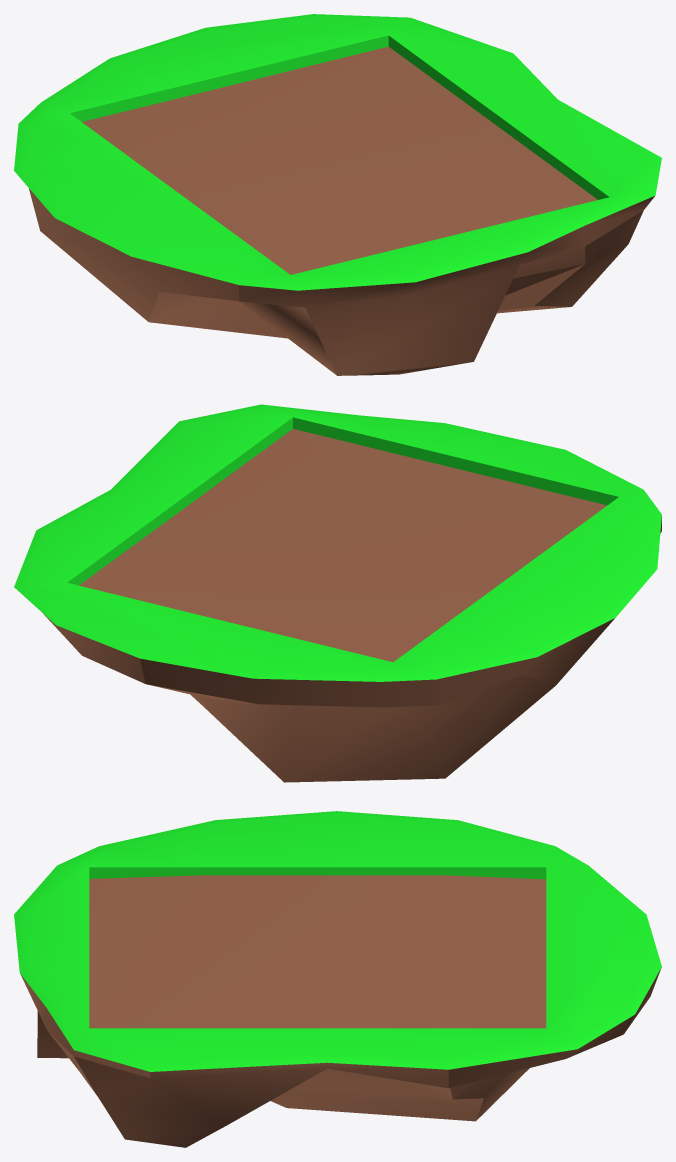
File: worldisland.FBX
The picture shows the model from 3 angles, top to bottom: view 1: azimuth 30°, elevation 25°; view 2: azimuth 150°, elevation 25°; view 3: azimuth 270°, elevation 25°; orthographic projection. The views are drawn at different scales.
Visible parts, largest first — view 1: WorldIsland; view 2: WorldIsland; view 3: WorldIsland.
Part boxes in pixels (bbox=[...]): WorldIsland: bbox=[14, 14, 661, 375]; WorldIsland: bbox=[14, 404, 661, 782]; WorldIsland: bbox=[14, 811, 661, 1147].
Size of the model in its own units: 48.63 by 15.9 by 51.05.
